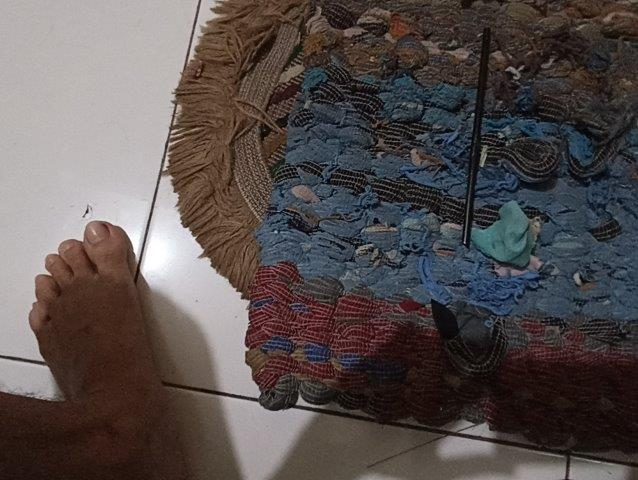sedotan: (464, 30, 491, 245)
